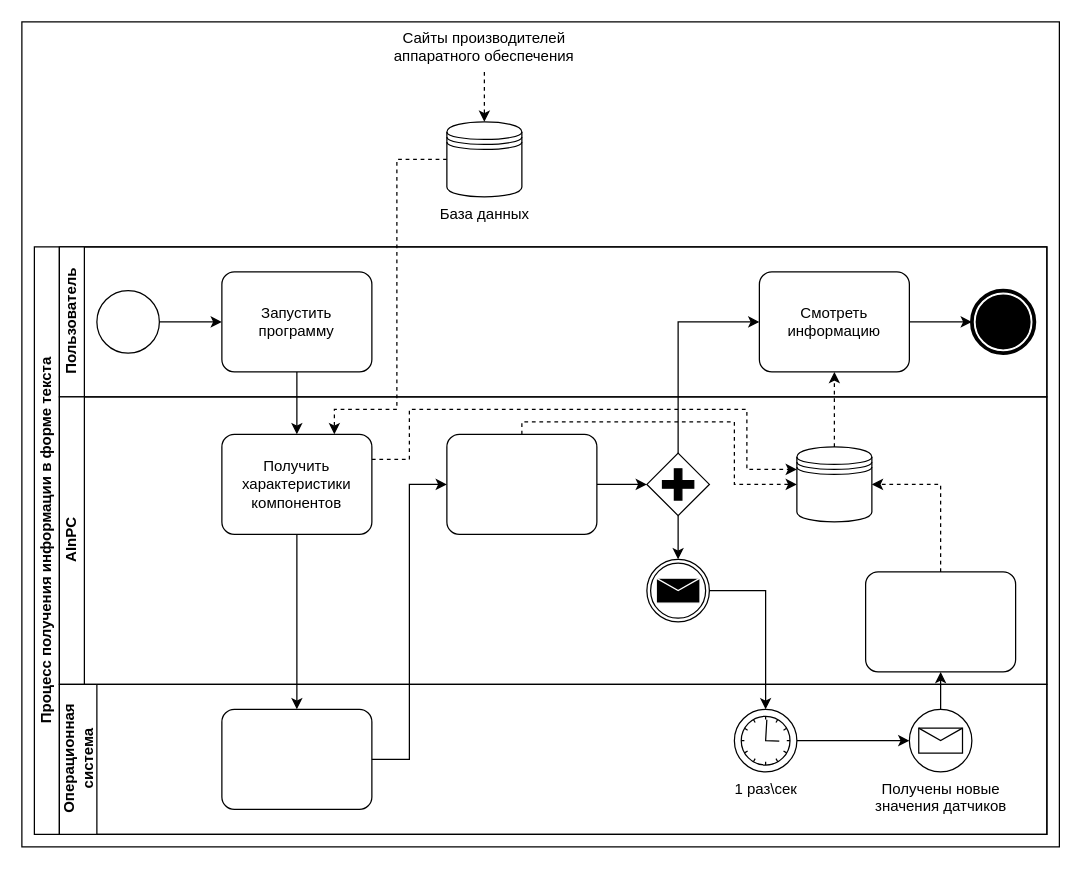
This 1081x869 diagram has some shape labels left out. Here are the shapes that lost their labels. From the top down, the centre of each, then its label:
(521,483): Обработать разовые значения датчиков
(834,484): Кэш данных
(677,590): Старт процесса опроса датчиков
(940,621): Обработать новые значения датчиков
(296,758): Получить разовые значения датчиков
